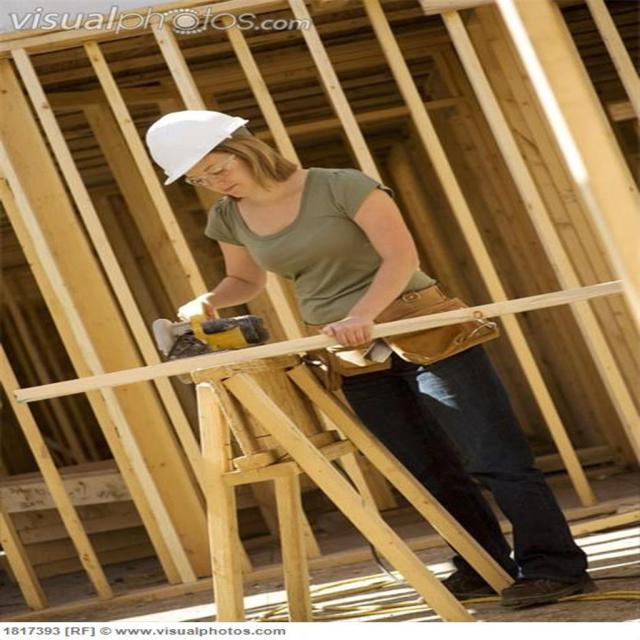Face: (179, 143, 277, 205)
